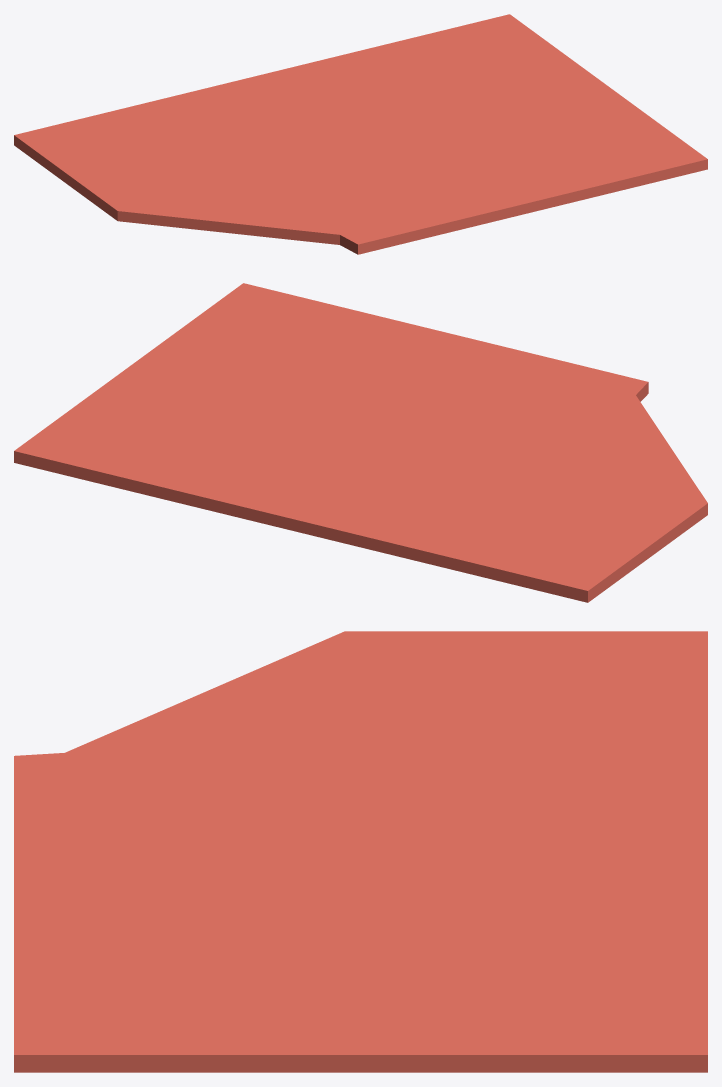
File: second_floor.glb
3 renders of one model, top to bottom at view 1: azimuth 30°, elevation 25°; view 2: azimuth 150°, elevation 25°; view 3: azimuth 270°, elevation 25°, orthographic. The views are drawn at different scales.
Parts seen in each view (by area): view 1: TerceiroAndar.002; view 2: TerceiroAndar.002; view 3: TerceiroAndar.002.
Boxes of the visible parts, x1,y1,x2,y2 form: TerceiroAndar.002: (14,14,707,254); TerceiroAndar.002: (14,283,707,602); TerceiroAndar.002: (14,631,707,1072).
Bounding box in the file's own units: 16.05 × 0.3166 × 11.11.
